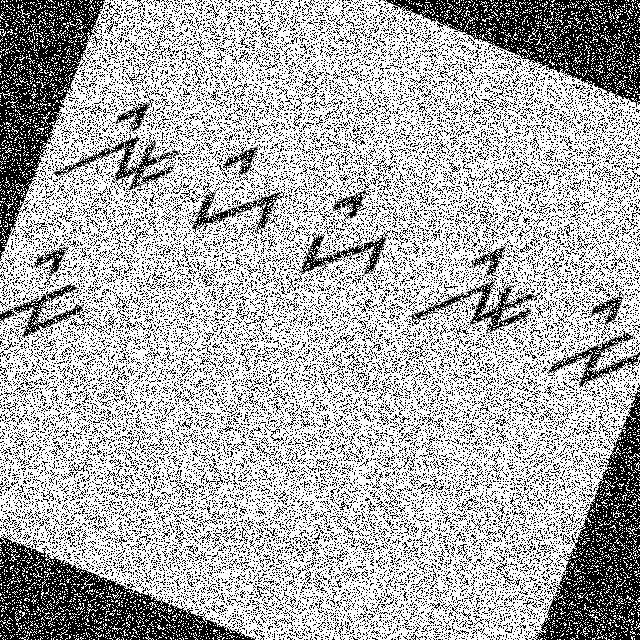hi: (180, 128, 304, 264), (290, 175, 414, 308)
mbi: (0, 228, 113, 365), (533, 269, 639, 406)
ndi: (394, 212, 559, 374), (47, 74, 198, 222)
